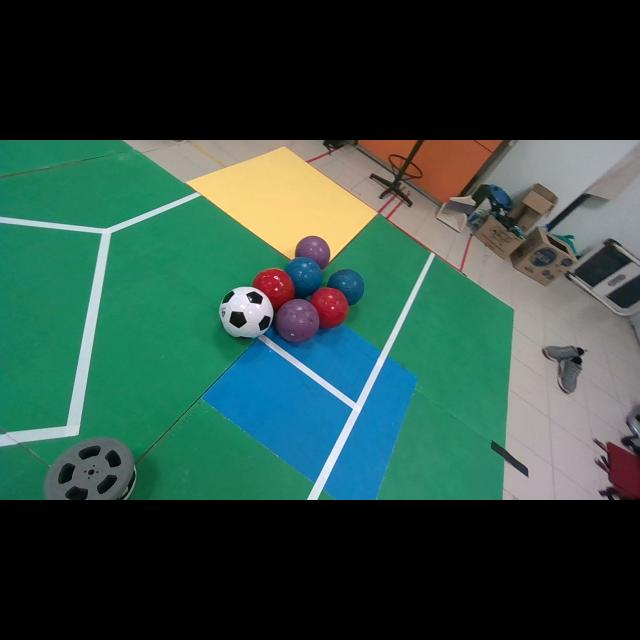B: (285, 256, 322, 299), (328, 269, 364, 304)
P: (276, 299, 320, 343), (295, 236, 330, 269)
R: (252, 268, 295, 311), (310, 288, 349, 329)
